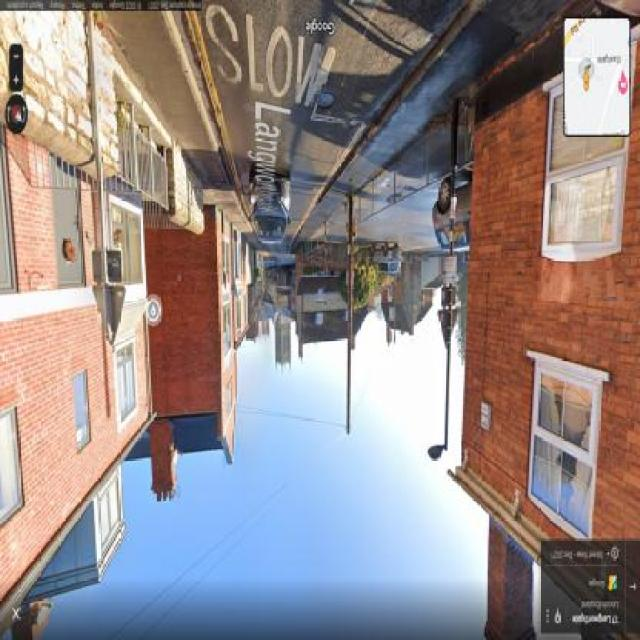pole: (433, 79, 461, 458), (344, 191, 356, 443)
